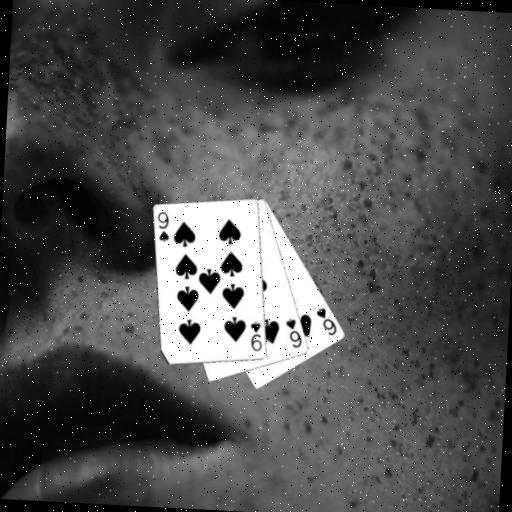6S: (312, 304, 339, 337), (282, 315, 305, 350)
9S: (154, 209, 173, 244), (247, 318, 265, 353)
